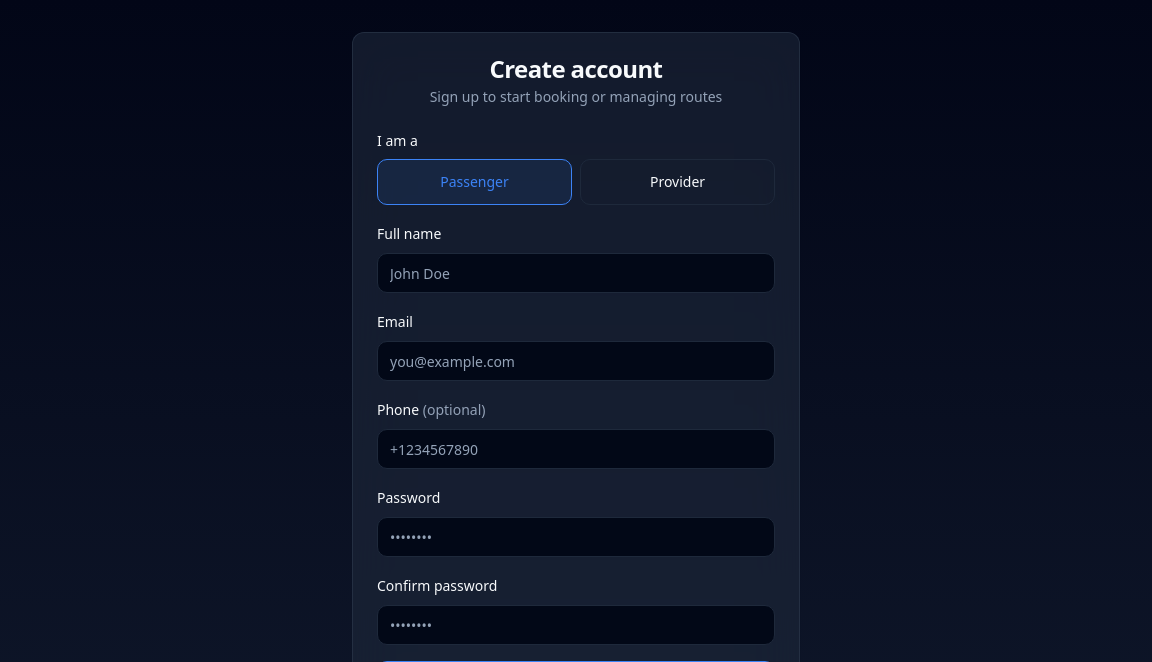
Test: RegisterPage › rendering › shows provider name field when PROVIDER is selected
This screenshot has width=1152, height=662.
Click the radio button labelled "Provider": (678, 182) x1=580 y1=159 x2=775 y2=205
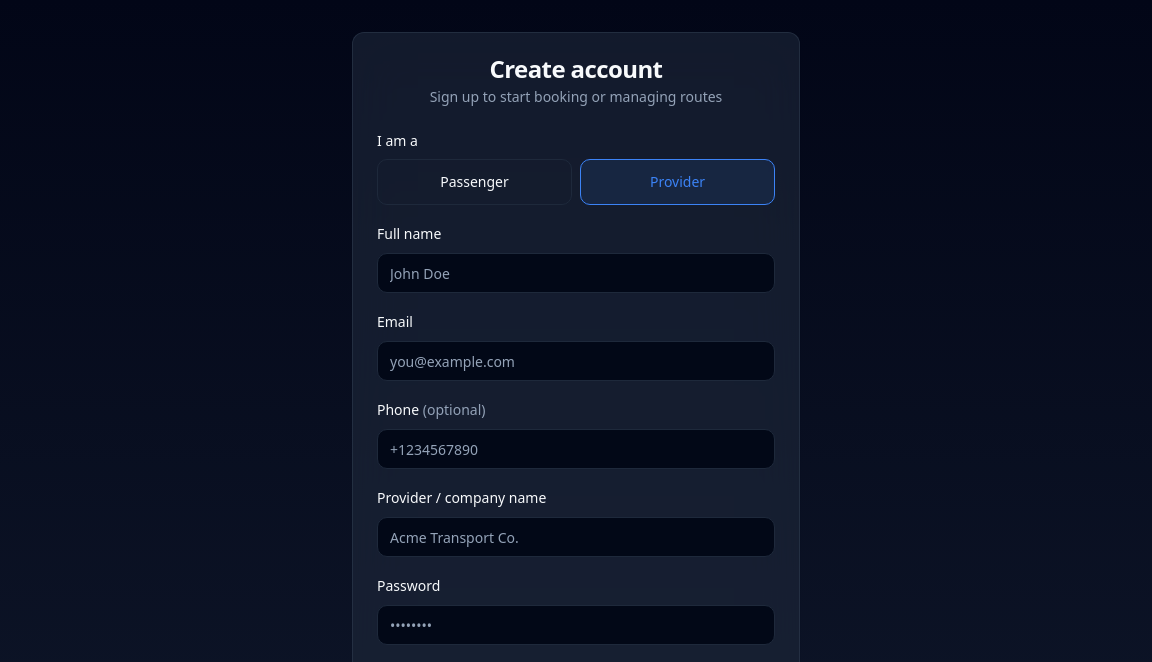
Expected: the field labelled "Provider / company name" is shown, x1=377 y1=517 x2=775 y2=557
